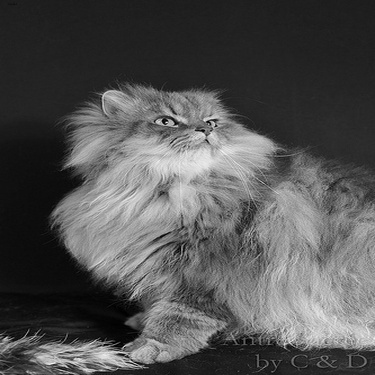cat: (44, 80, 374, 363)
